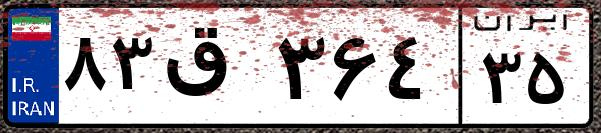3: (270, 28, 330, 110), (475, 38, 525, 113), (110, 28, 158, 98)
4: (385, 28, 445, 110)
5: (525, 38, 570, 115)
6: (330, 28, 385, 110)
8: (57, 26, 110, 100)
ق: (158, 20, 270, 120)
